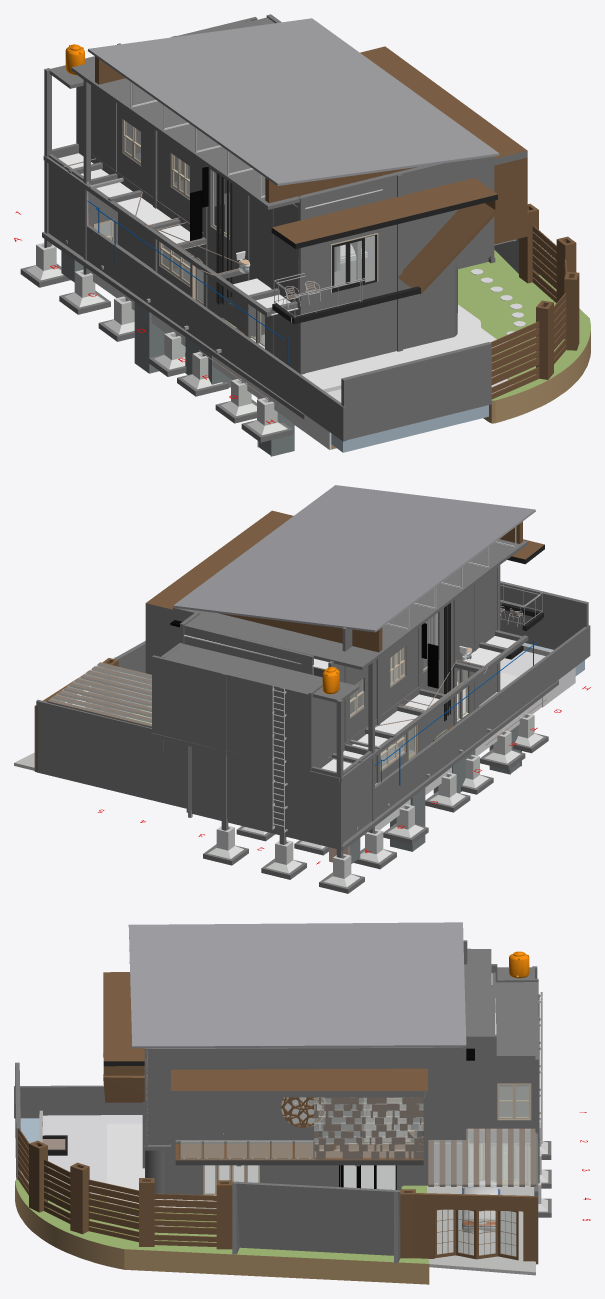
File: living-unit.glb
3 renders of one model, top to bottom at view 1: azimuth 30°, elevation 25°; view 2: azimuth 150°, elevation 25°; view 3: azimuth 270°, elevation 25°, orthographic. The views are drawn at different scales.
Parts seen in each view (by area): view 1: G-Object; view 2: G-Object; view 3: G-Object.
Boxes of the visible parts, x1,y1,x2,y2 form: G-Object: [14, 14, 590, 456]; G-Object: [14, 485, 590, 893]; G-Object: [14, 922, 590, 1284].
Size of the model in its own units: 18.38 by 12.37 by 25.38.
Materials: 3 (3 with a texture image).
